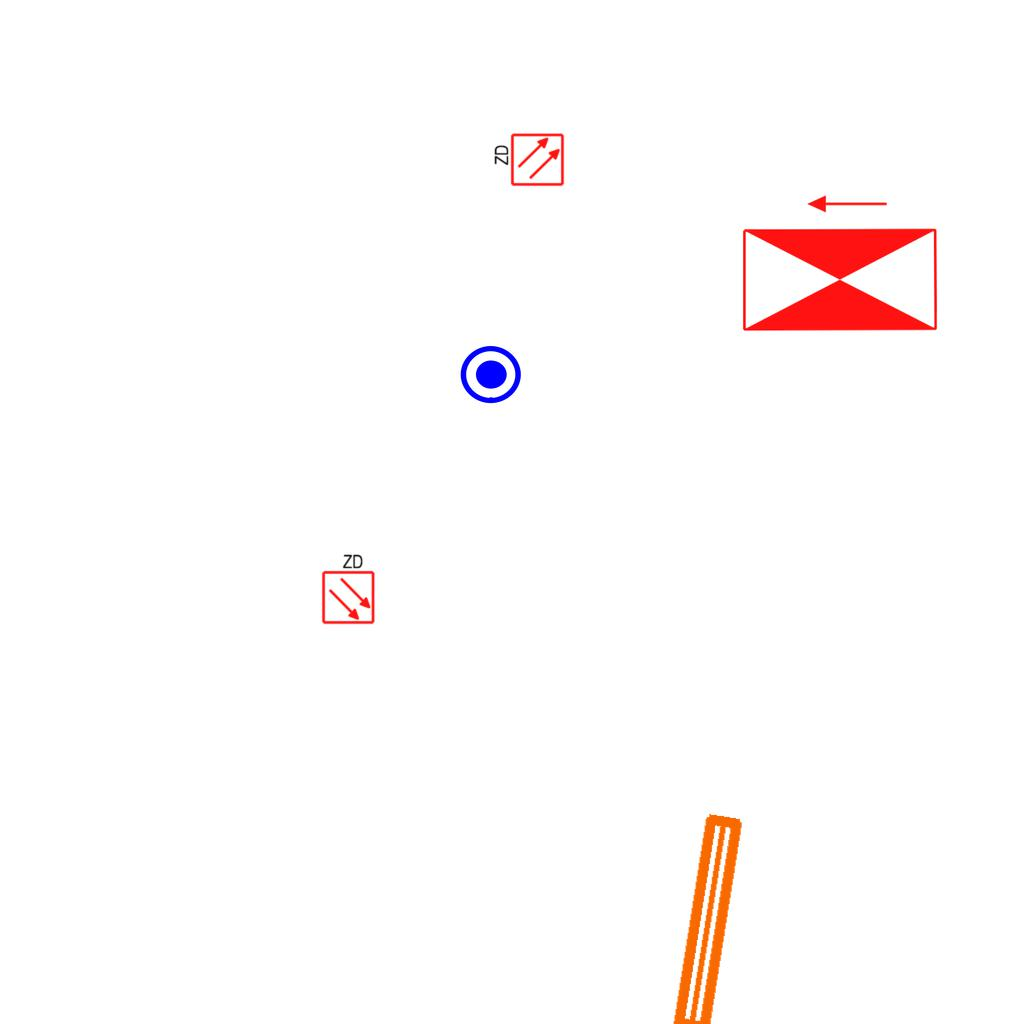Ambulanz_Pendelleuchte_LED: (575, 801, 807, 1024)
Fluchtwegpiktogramm: (736, 190, 944, 337)
Taster: (458, 344, 524, 410)
ZD_Melder_in_Zwischendecke_mit_Revisionsoeffnung_mind_40_x_40_cm: (491, 132, 565, 189), (319, 551, 376, 625)
